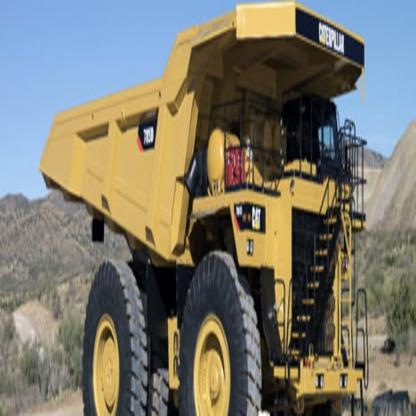dump_truck: (36, 2, 365, 415)
